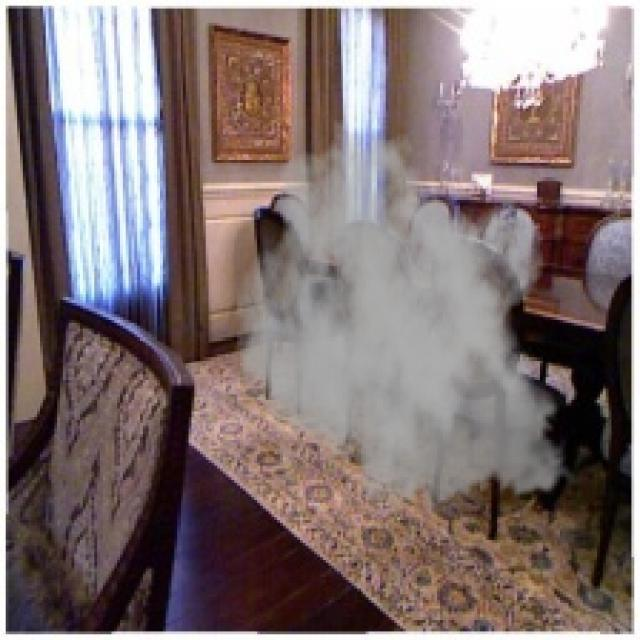Smoke: (235, 117, 580, 520)
